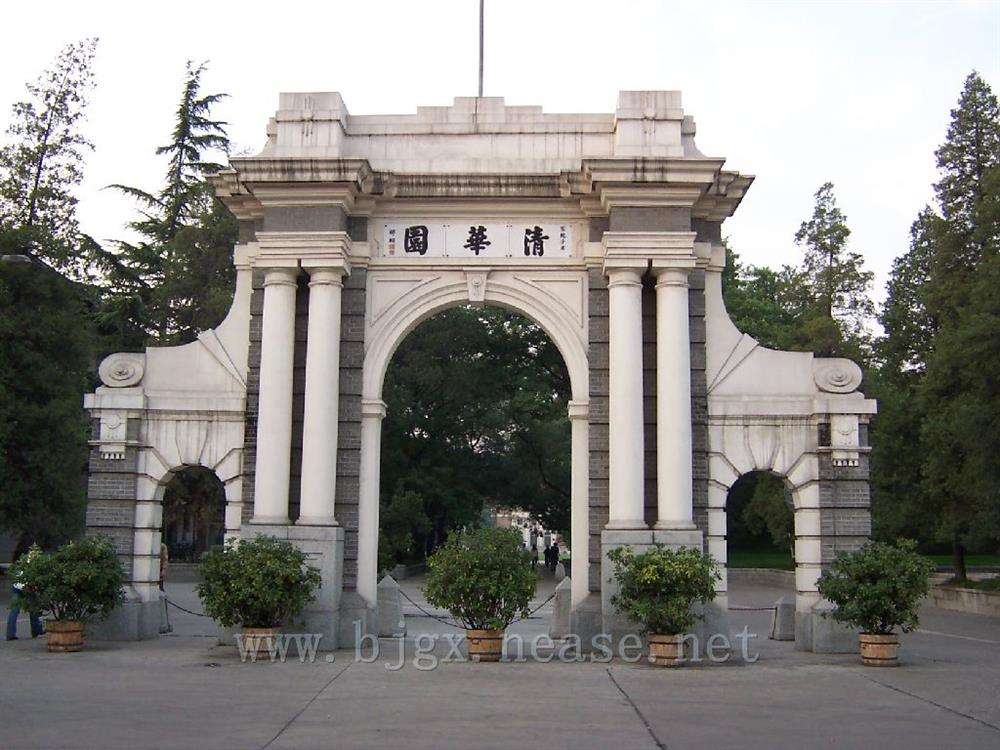Tsinghua_old_gate: (78, 89, 872, 638)
